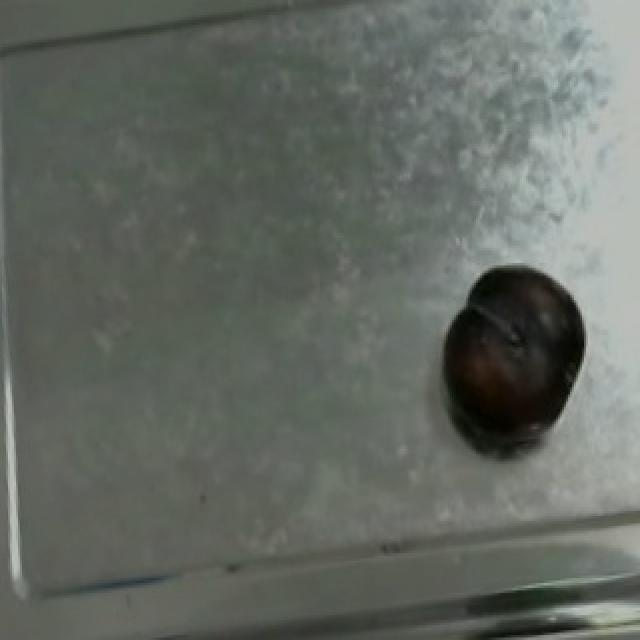Fruit: (428, 250, 594, 457)
